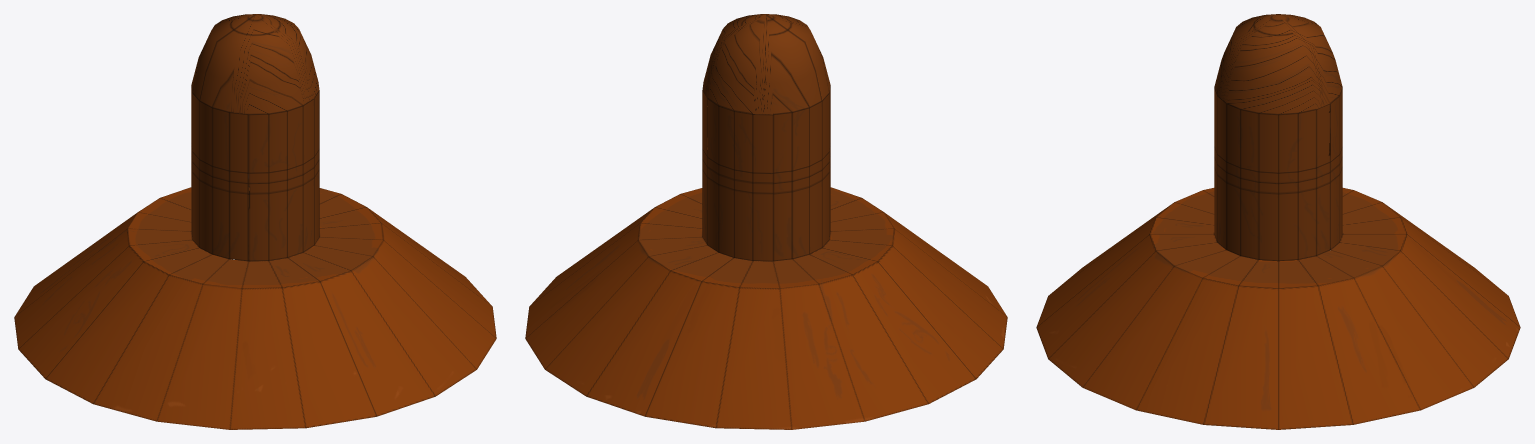
File: Gun Stand.fbx
3 renders of one model, left to right at view 1: azimuth 30°, elevation 25°; view 2: azimuth 150°, elevation 25°; view 3: azimuth 270°, elevation 25°, orthographic.
Parts seen in each view (by area): view 1: polySurface6; view 2: polySurface6; view 3: polySurface6.
Part boxes in pixels (<box>): polySurface6: <box>14,14,496,429</box>; polySurface6: <box>525,14,1007,429</box>; polySurface6: <box>1036,14,1520,429</box>.
Size of the model in its own units: 9.85 by 7.02 by 9.85.
Materials: 1 (1 with a texture image).
